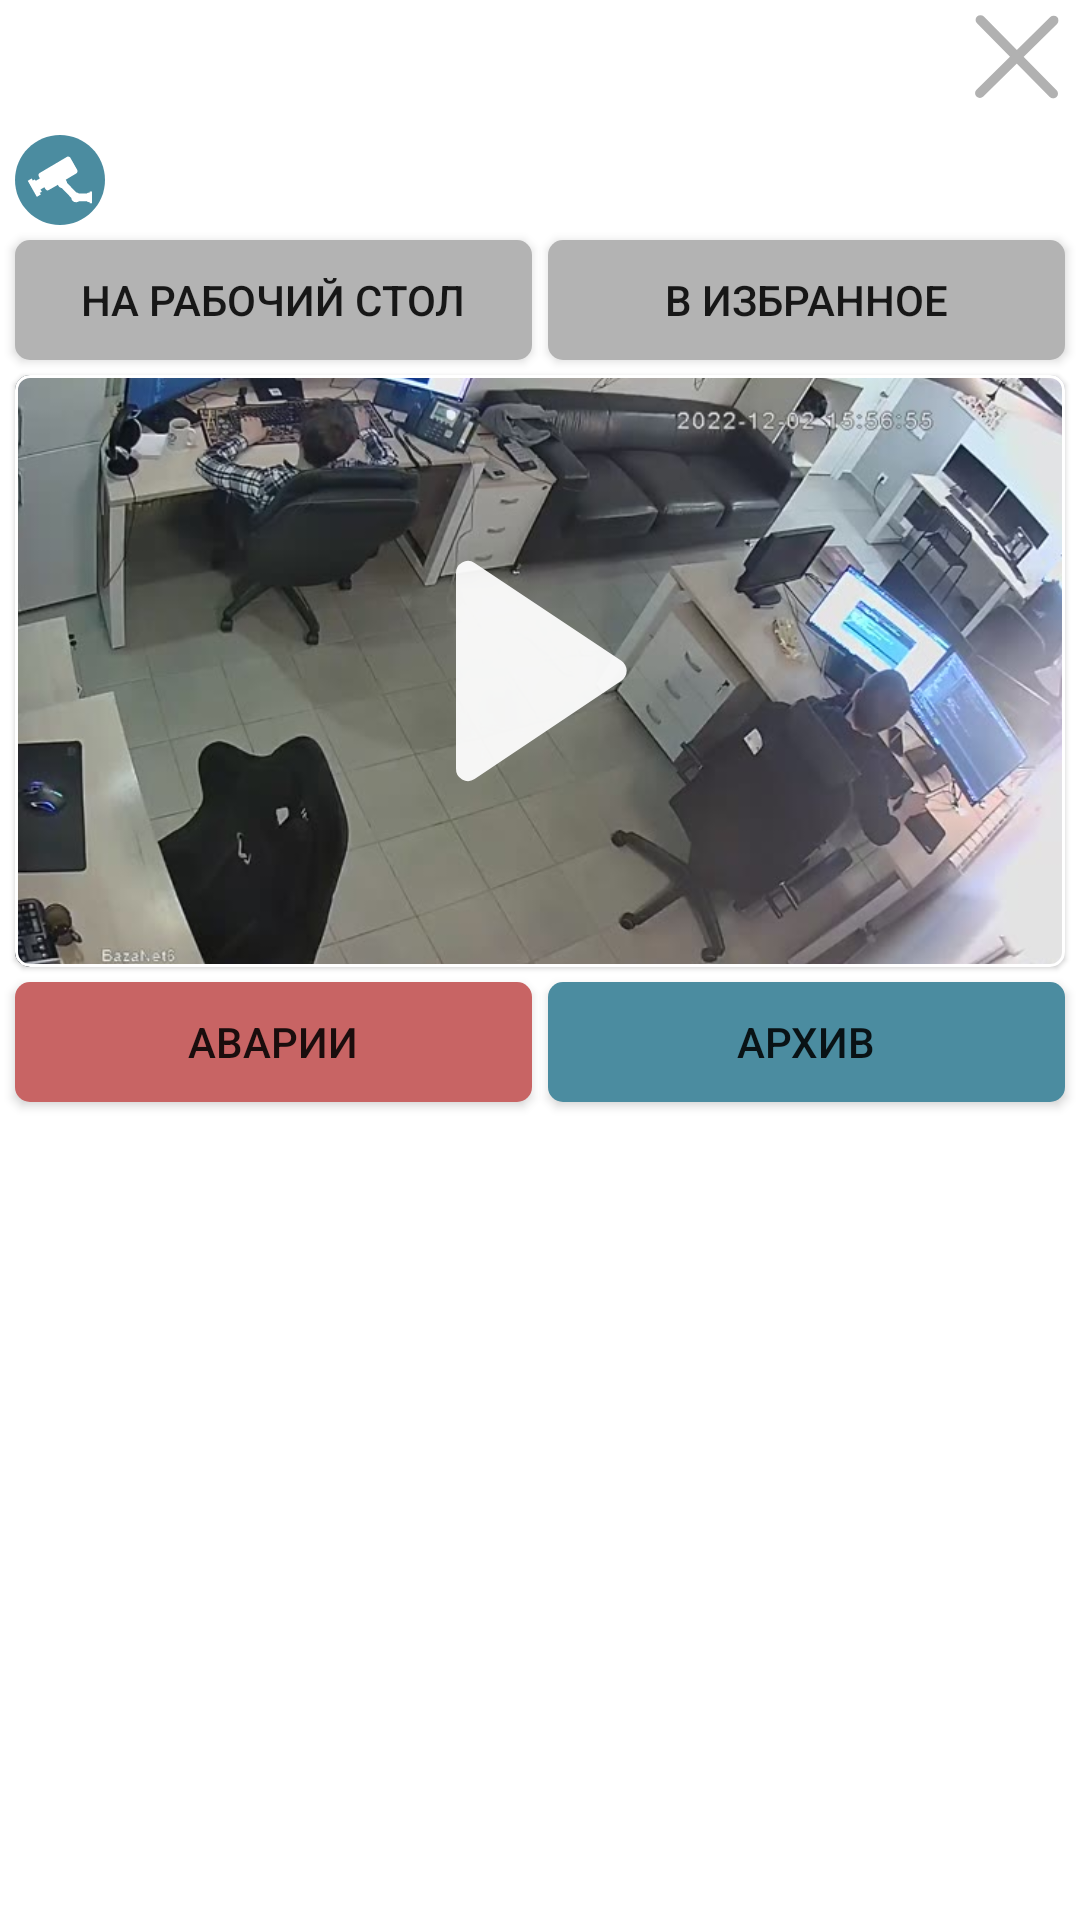

Icon click points for this 1080 x 1920 phone screenshot, format (x=x, y=y):
close cross: (x=1017, y=56)
map city cam: (x=60, y=180)
play: (x=540, y=671)
